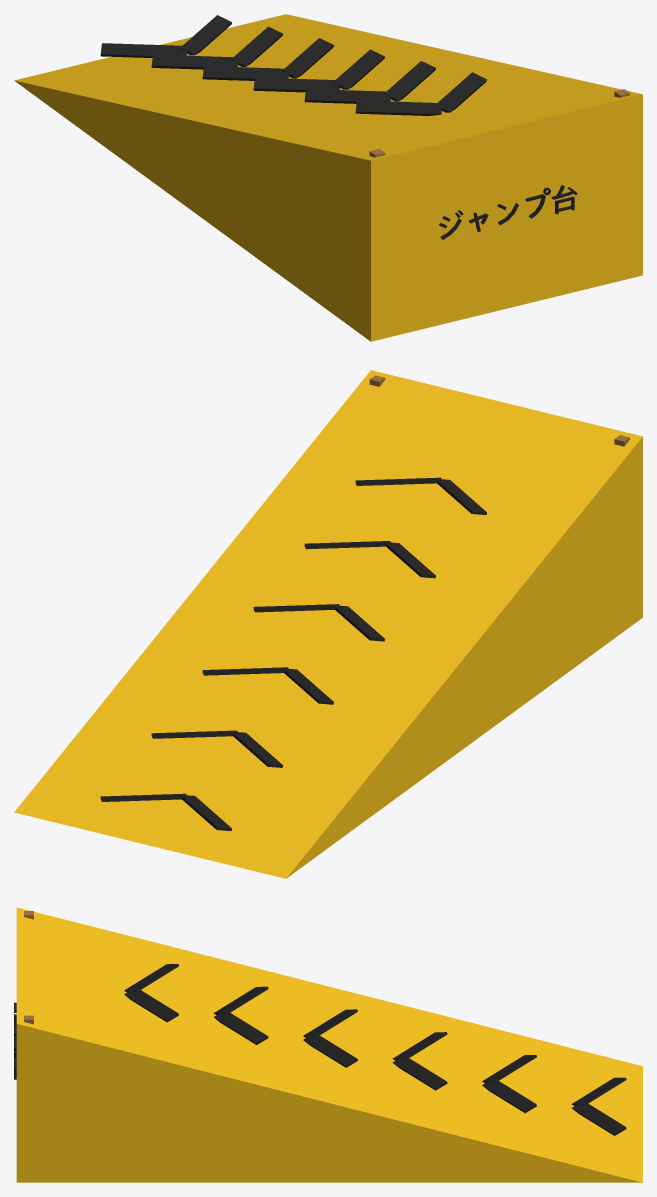
The model's file is ramp.glb.
The picture shows the model from 3 angles, top to bottom: view 1: azimuth 30°, elevation 25°; view 2: azimuth 150°, elevation 25°; view 3: azimuth 270°, elevation 25°; orthographic projection. The views are drawn at different scales.
Visible parts, largest first — view 1: ramp_body; view 2: ramp_body; view 3: ramp_body.
Part boxes in pixels (x1=…): ramp_body: x1=14, y1=14, x2=642, y2=341; ramp_body: x1=14, y1=370, x2=642, y2=878; ramp_body: x1=14, y1=907, x2=642, y2=1182.
Bounding box in the file's own units: 2.2 × 1.4 × 5.02.
